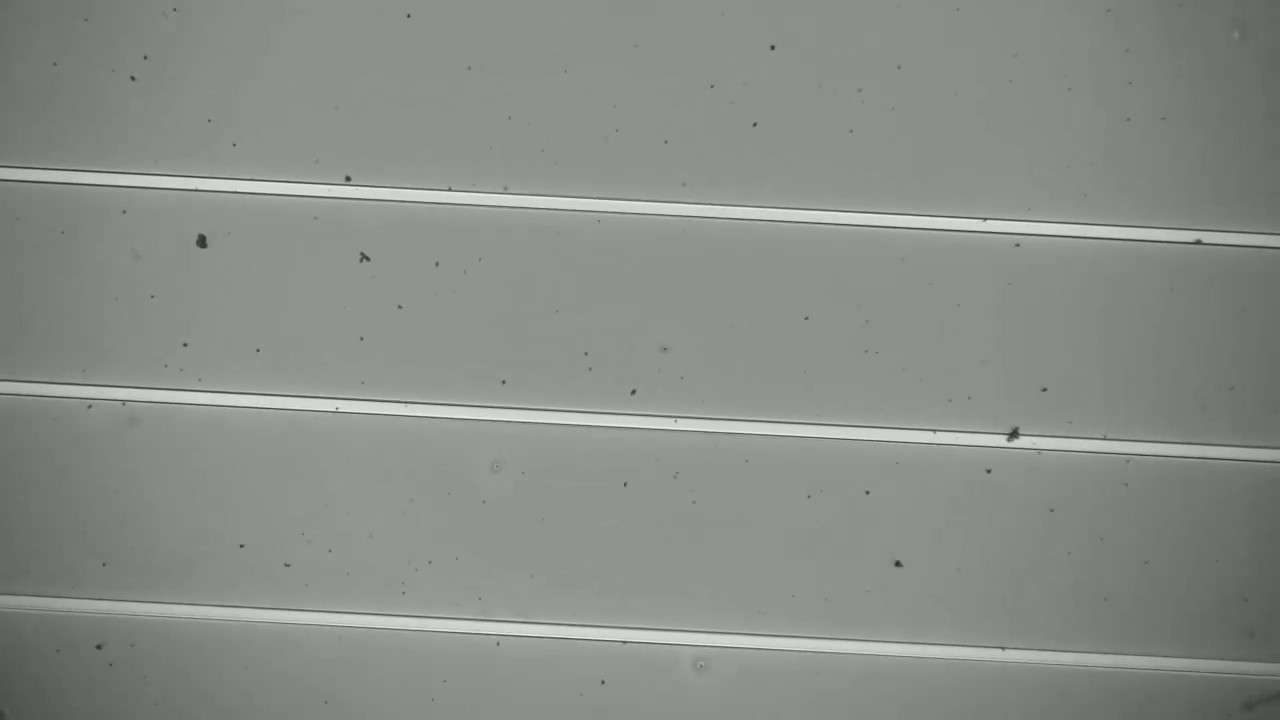stains_enbedded: (1002, 427, 1024, 452)
